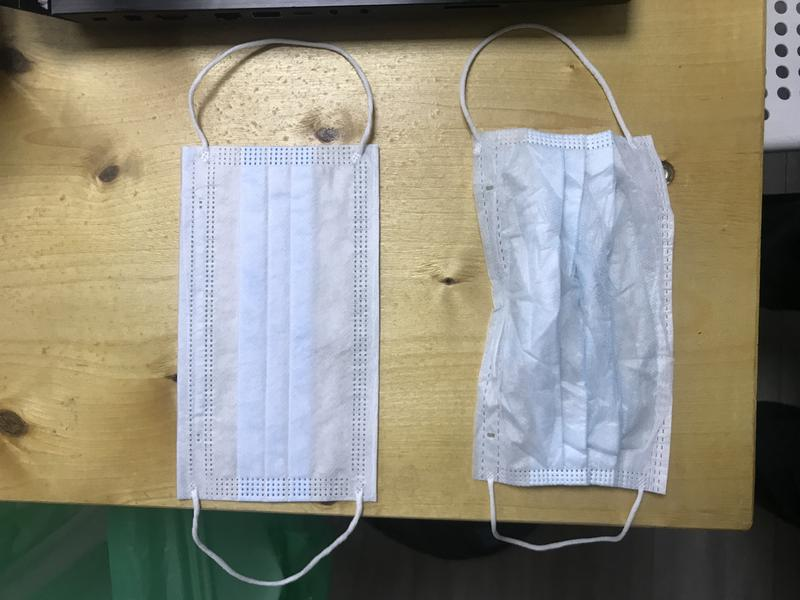medical_mask: (461, 23, 674, 551), (179, 37, 378, 584)
